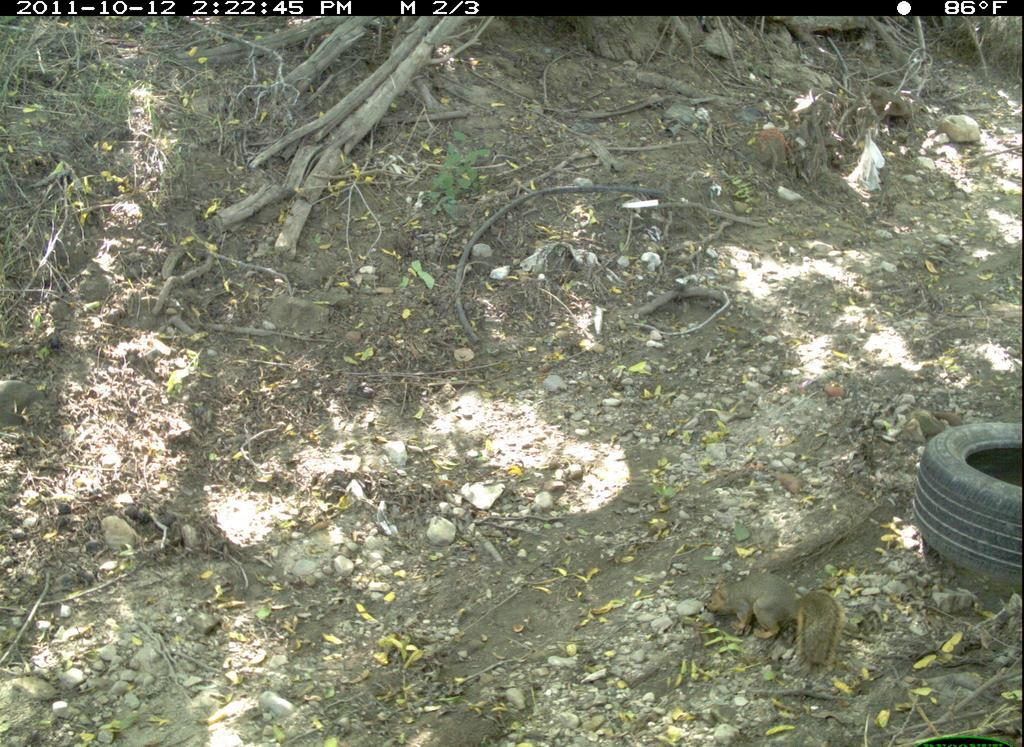squirrel: (698, 564, 848, 681)
